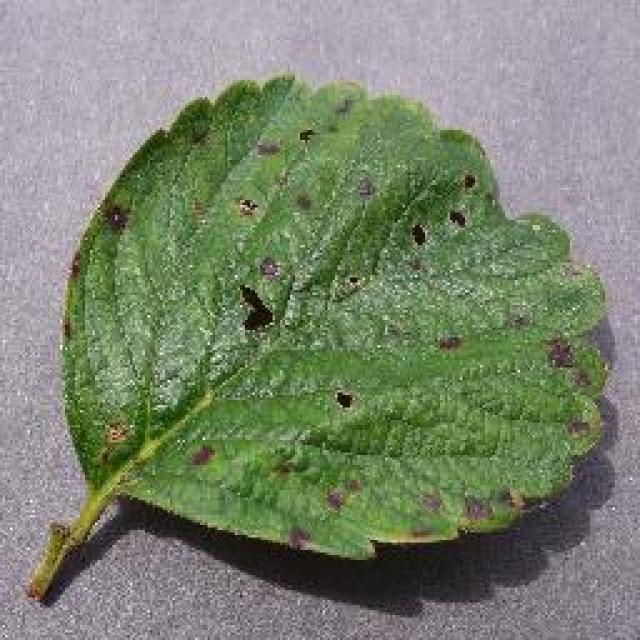Strawberry leaf scorch: (158, 132, 524, 513)
